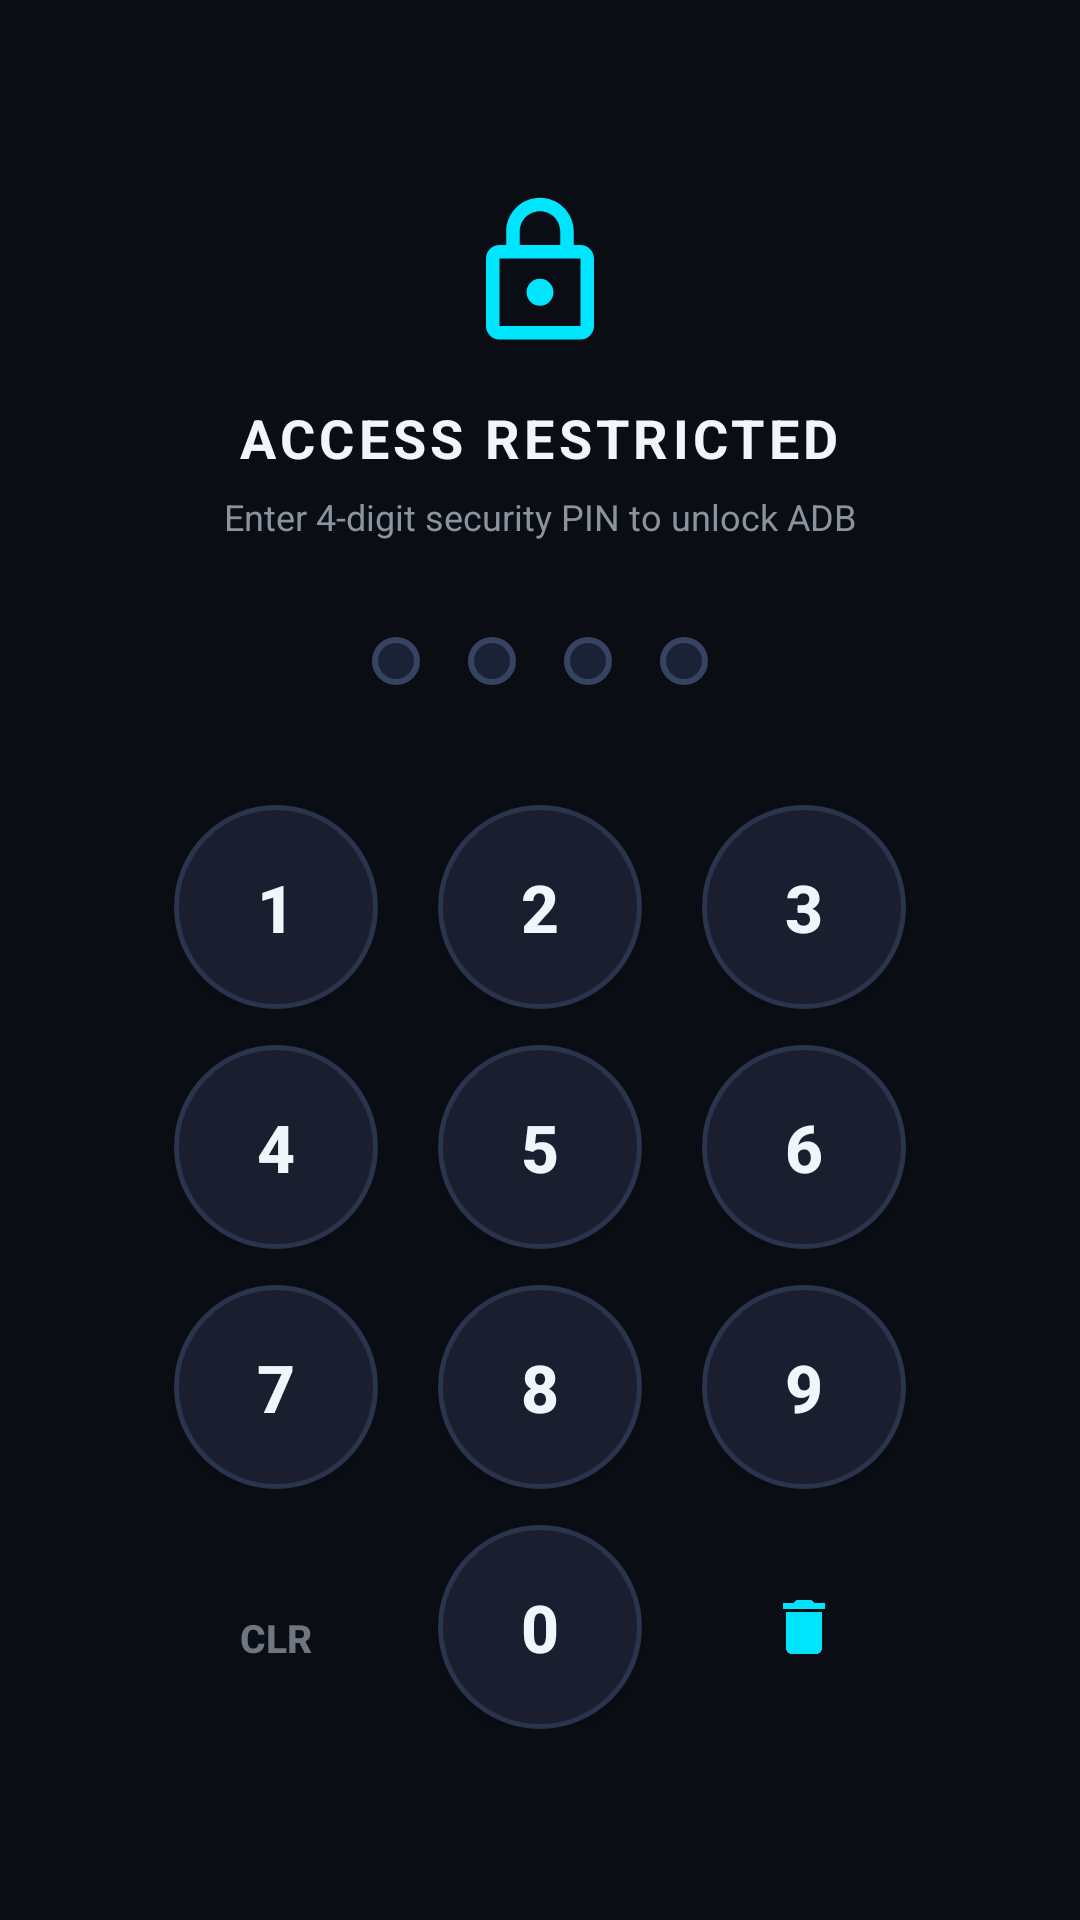

Where icons sit on this 1080*1920 app screen, as (x1, y1, x2, y2):
Security Lock: (486, 197, 594, 340)
